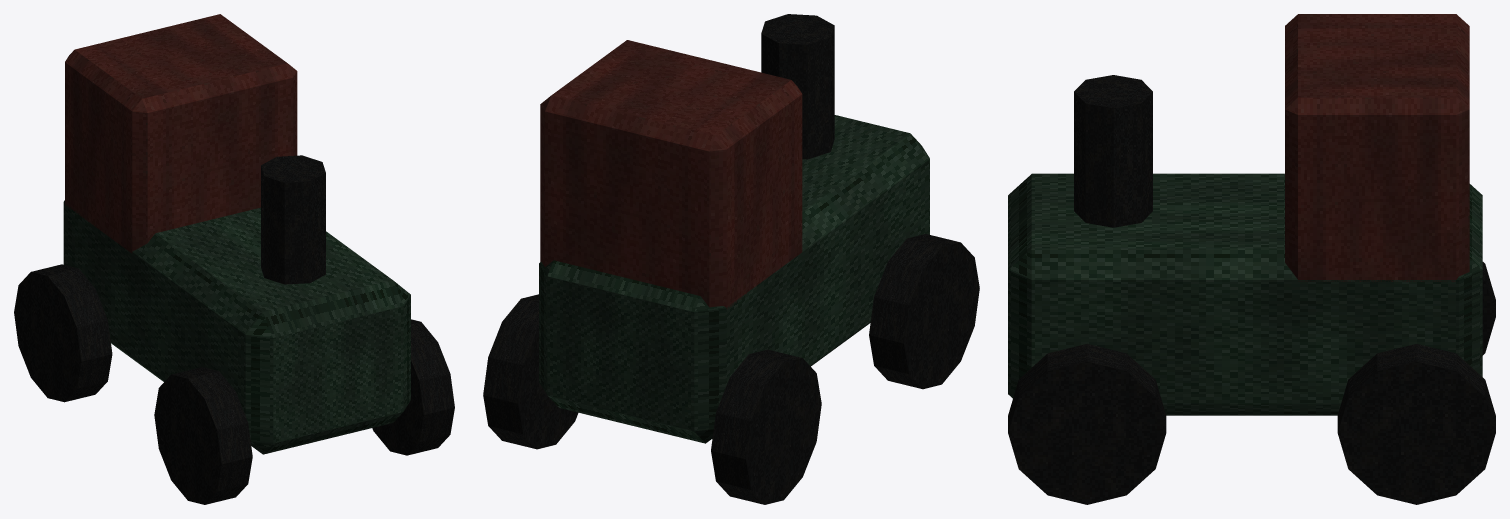
The model's file is level_loose_toy_worn.glb.
3 renders of one model, left to right at view 1: azimuth 30°, elevation 25°; view 2: azimuth 150°, elevation 25°; view 3: azimuth 270°, elevation 25°, orthographic. The views are drawn at different scales.
Parts seen in each view (by area): view 1: level_loose_toy_worn; view 2: level_loose_toy_worn; view 3: level_loose_toy_worn.
Part boxes in pixels (<box>): level_loose_toy_worn: <box>14,14,454,504</box>; level_loose_toy_worn: <box>483,14,979,504</box>; level_loose_toy_worn: <box>1008,14,1495,504</box>.
Size of the model in its own units: 0.12 by 0.16 by 0.185.
3 materials, 3 textured.
